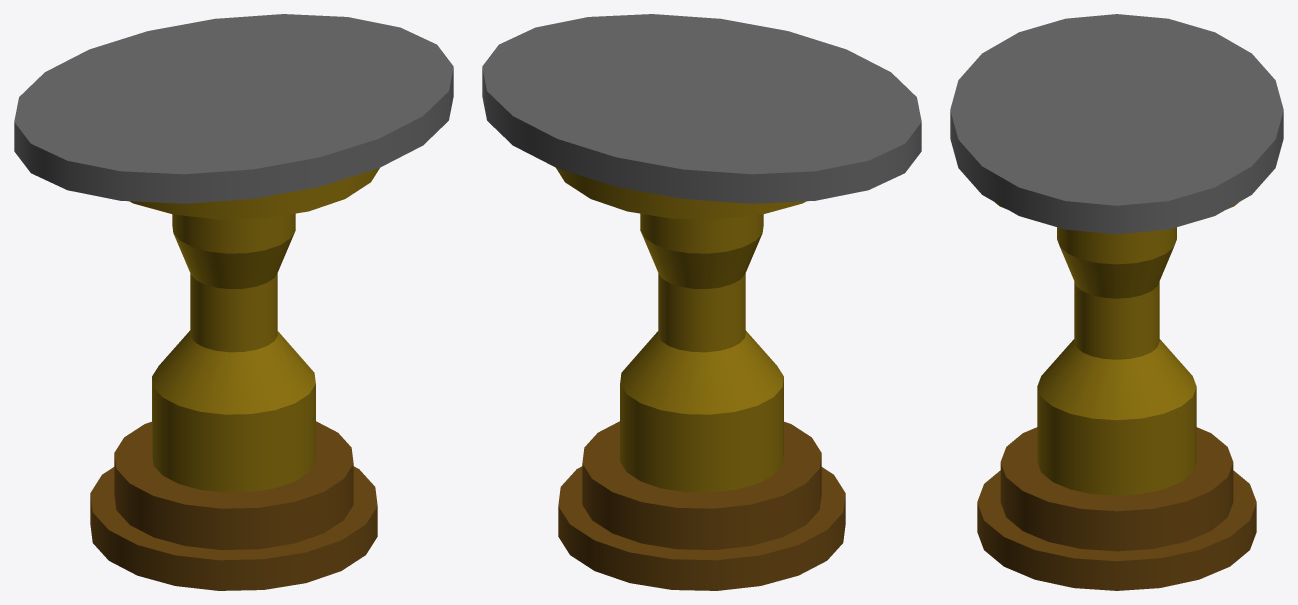
The model's file is pedestal.fbx.
3 renders of one model, left to right at view 1: azimuth 30°, elevation 25°; view 2: azimuth 150°, elevation 25°; view 3: azimuth 270°, elevation 25°, orthographic. The views are drawn at different scales.
Visible parts, largest first — view 1: pCylinder1; view 2: pCylinder1; view 3: pCylinder1.
Part boxes in pixels (<box>): pCylinder1: <box>14,14,453,590</box>; pCylinder1: <box>482,14,921,590</box>; pCylinder1: <box>950,14,1283,590</box>.
Size of the model in its own units: 10.66 by 10.94 by 7.83.
